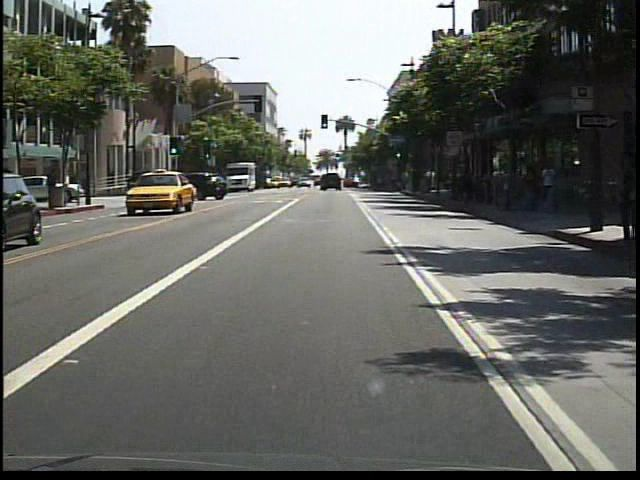person: (535, 159, 559, 220)
